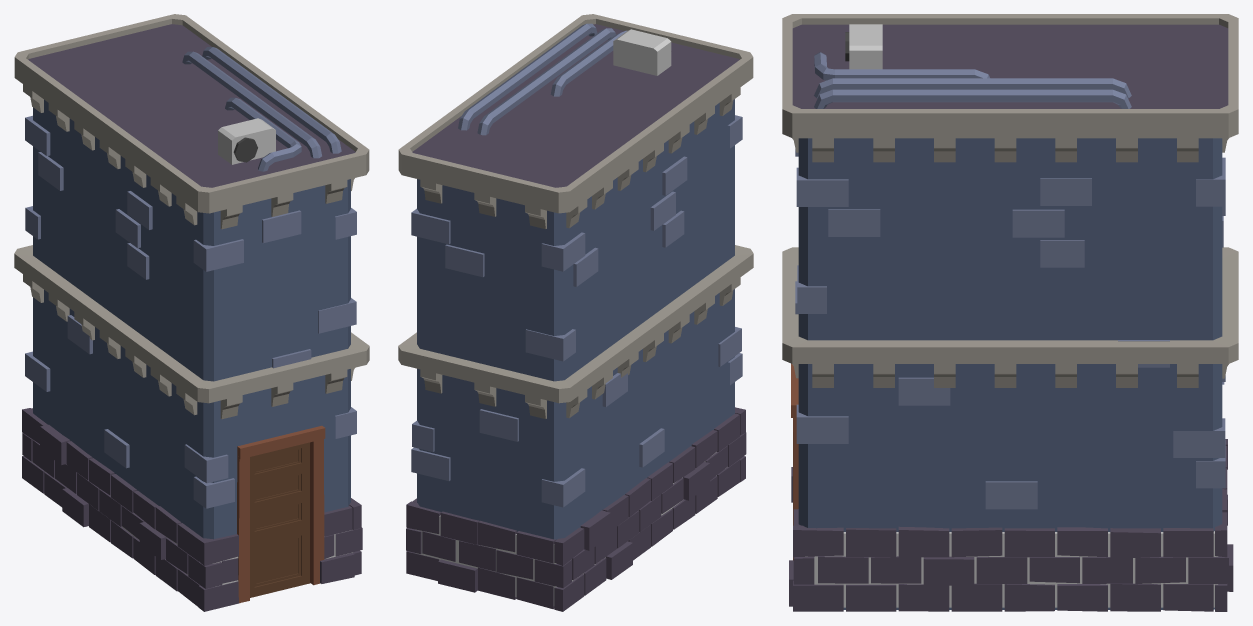
Rendered from quat_2story_slim.glb.
3 views of the same model, side by side, from view 1: azimuth 30°, elevation 25°; view 2: azimuth 150°, elevation 25°; view 3: azimuth 270°, elevation 25° (orthographic). The views are drawn at different scales.
Parts seen in each view (by area): view 1: 2Story_Slim_Cube.121; view 2: 2Story_Slim_Cube.121; view 3: 2Story_Slim_Cube.121.
Boxes of the visible parts, bbox=[...] form: 2Story_Slim_Cube.121: bbox=[14, 14, 369, 611]; 2Story_Slim_Cube.121: bbox=[398, 14, 753, 611]; 2Story_Slim_Cube.121: bbox=[782, 14, 1238, 611].
Size of the model in its own units: 1.12 by 2.76 by 2.15.
1 material, 1 textured.
